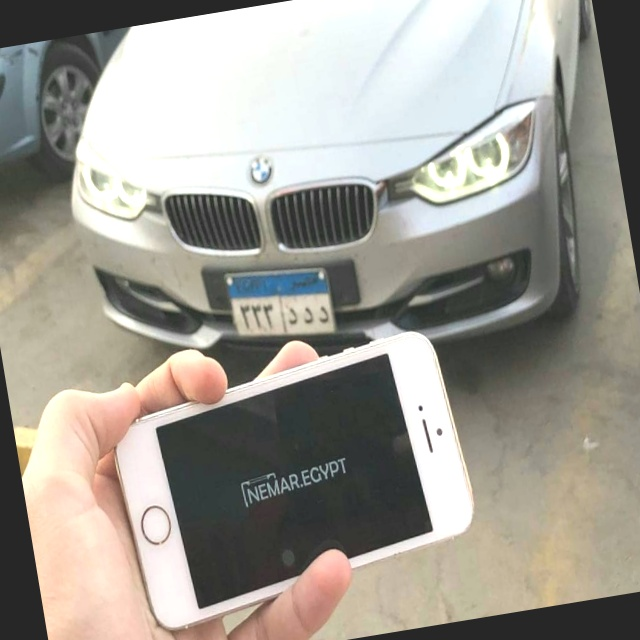License Plate: (217, 252, 340, 357)
